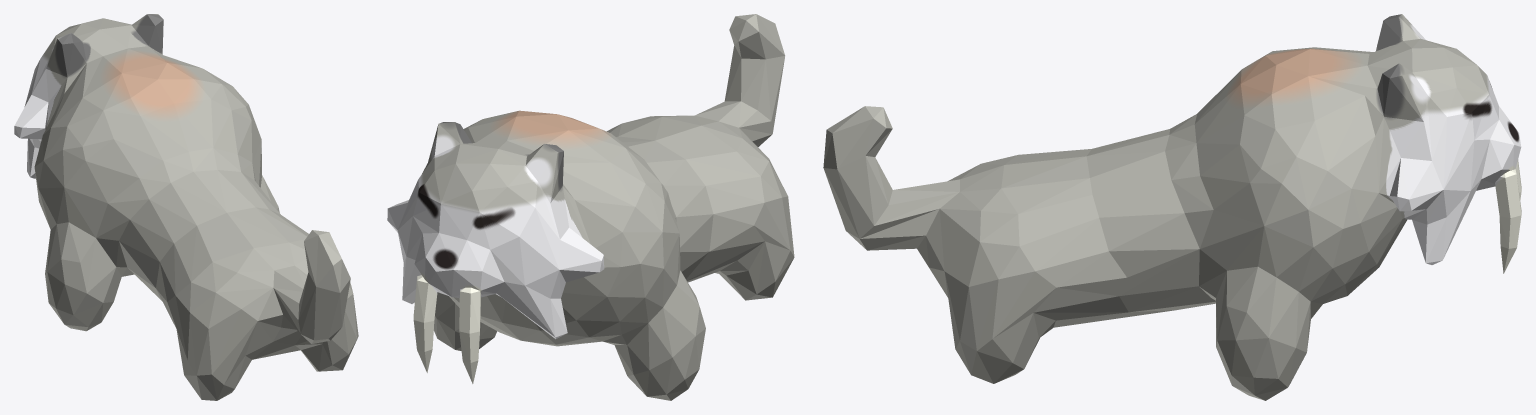
The model's file is animal_cat_scimitar_blob.obj.
3 renders of one model, left to right at view 1: azimuth 30°, elevation 25°; view 2: azimuth 150°, elevation 25°; view 3: azimuth 270°, elevation 25°, orthographic. The views are drawn at different scales.
Visible parts, largest first — view 1: animal_cat_scimitar_blob; view 2: animal_cat_scimitar_blob; view 3: animal_cat_scimitar_blob.
Part boxes in pixels (x1,y1,x2,y2): animal_cat_scimitar_blob: [14, 14, 358, 400]; animal_cat_scimitar_blob: [387, 14, 794, 400]; animal_cat_scimitar_blob: [823, 14, 1521, 400].
Size of the model in its own units: 0.7676 by 0.7849 by 1.63.
